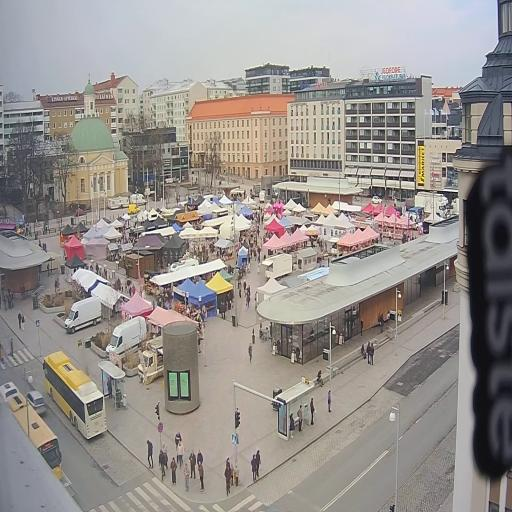bus: (37, 339, 113, 451), (0, 370, 65, 483)
car: (22, 380, 50, 416)
delivery: (103, 308, 150, 362), (64, 294, 104, 338), (413, 191, 448, 221), (128, 188, 151, 206), (125, 202, 141, 216)
